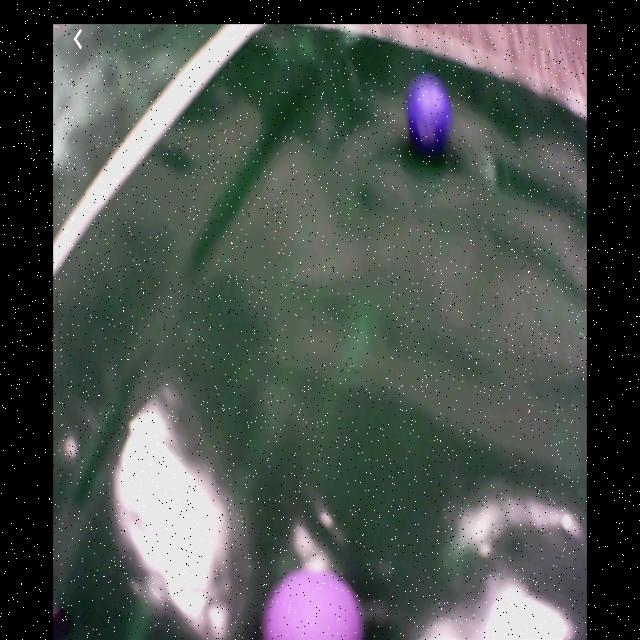ball: (262, 567, 365, 640), (408, 77, 453, 156)
